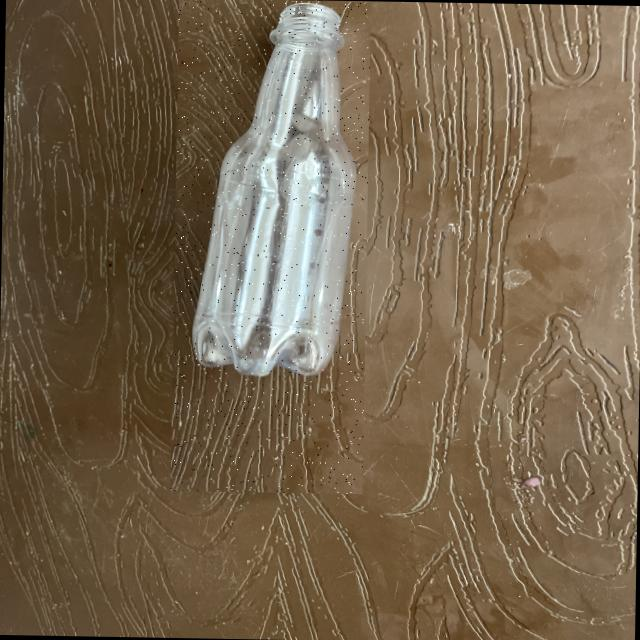PET_ClearBottle: (170, 0, 371, 493)
